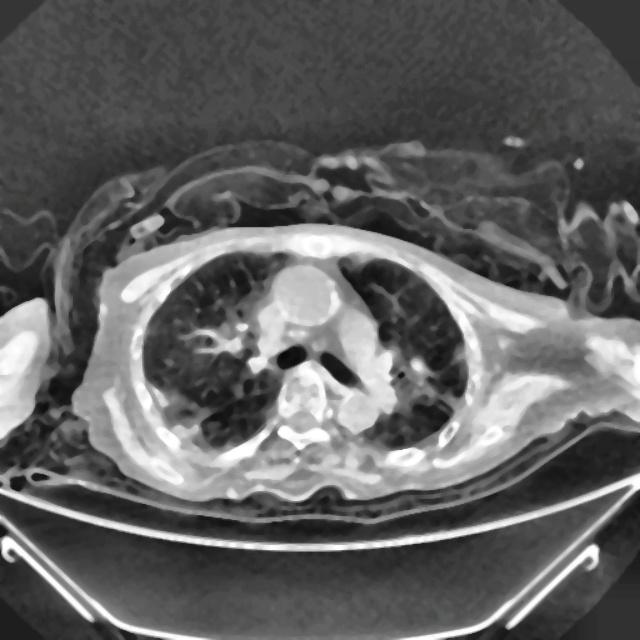covid: (67, 219, 637, 515)
